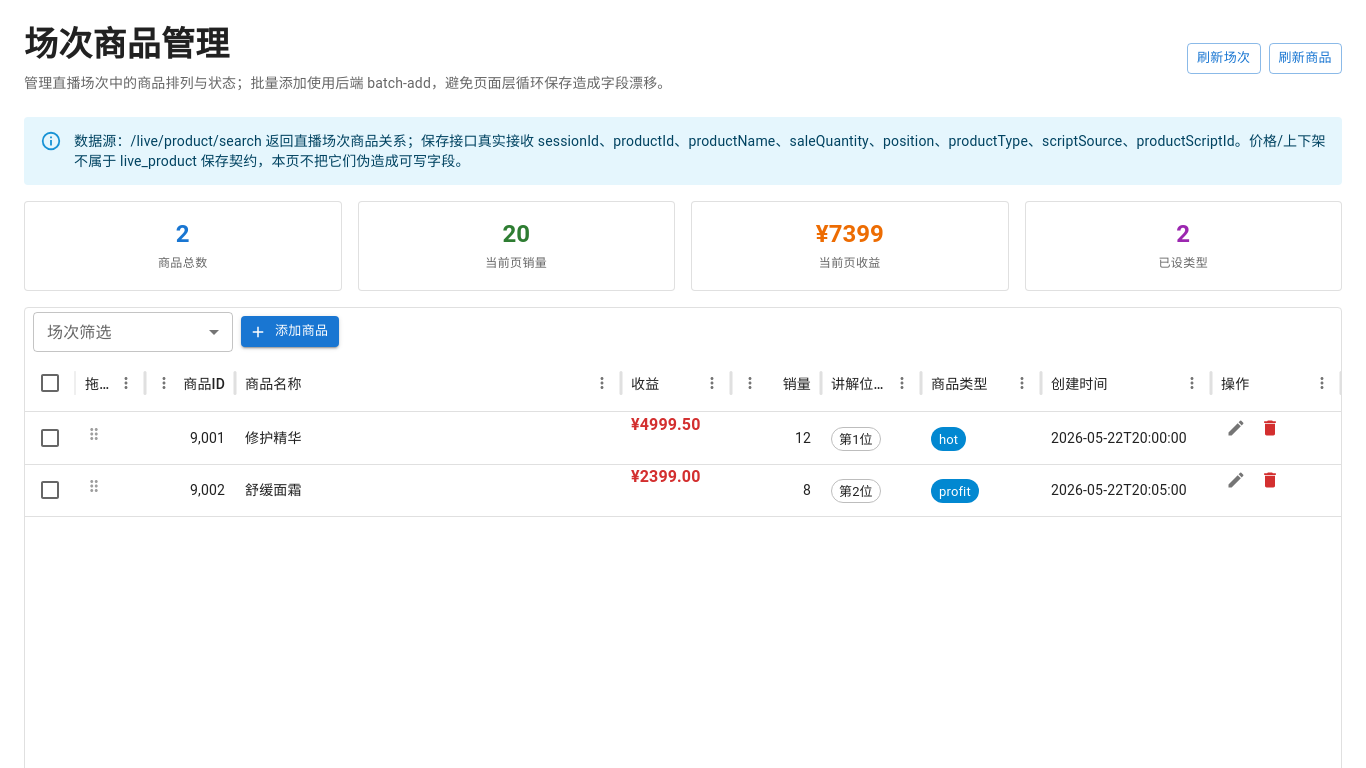
LiveProductPage › shows batch add failure with source endpoint
This screenshot has width=1366, height=768.
Expected: the text "修护精华" is shown, [245,430,302,446]
Click the checkbox named "Select row" at x=50, y=438, box [38,426,62,450]
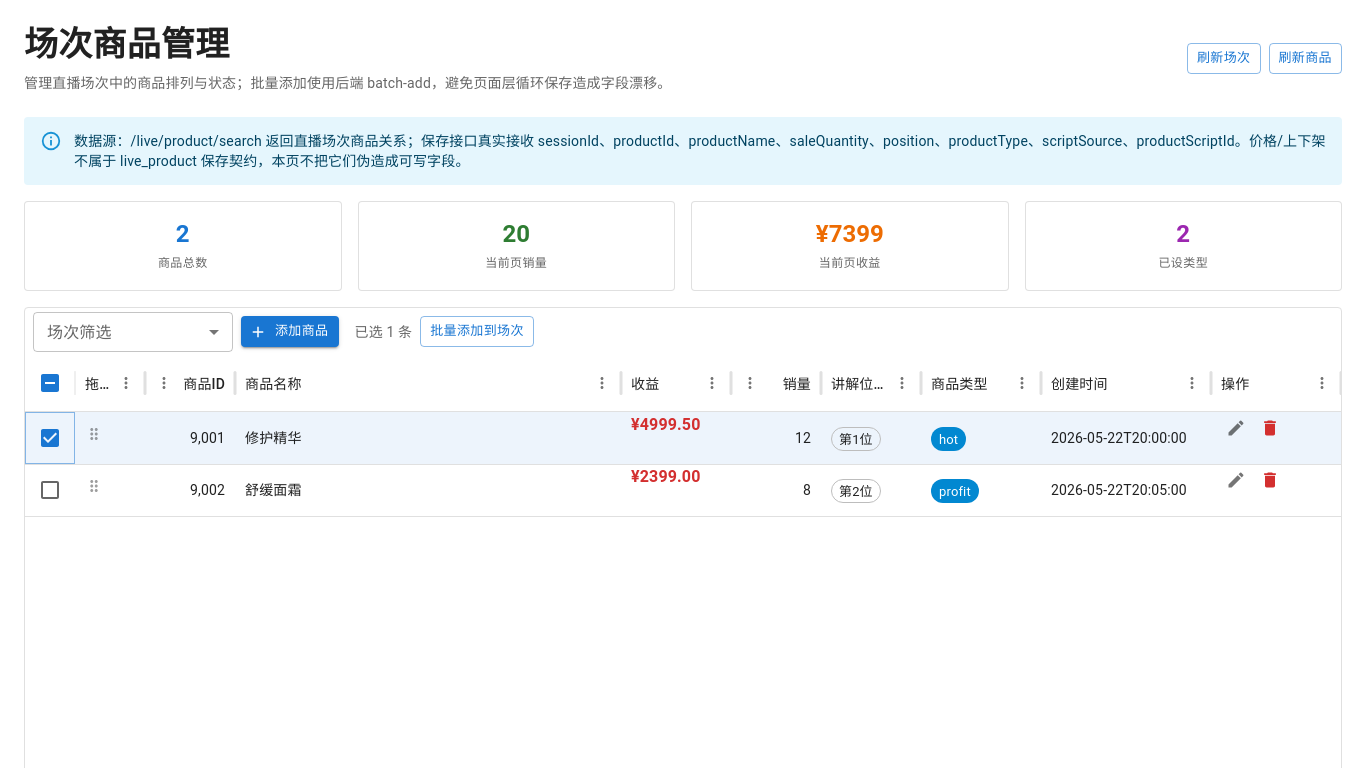
Click the button "批量添加到场次" at x=477, y=332, box [420,316,534,347]
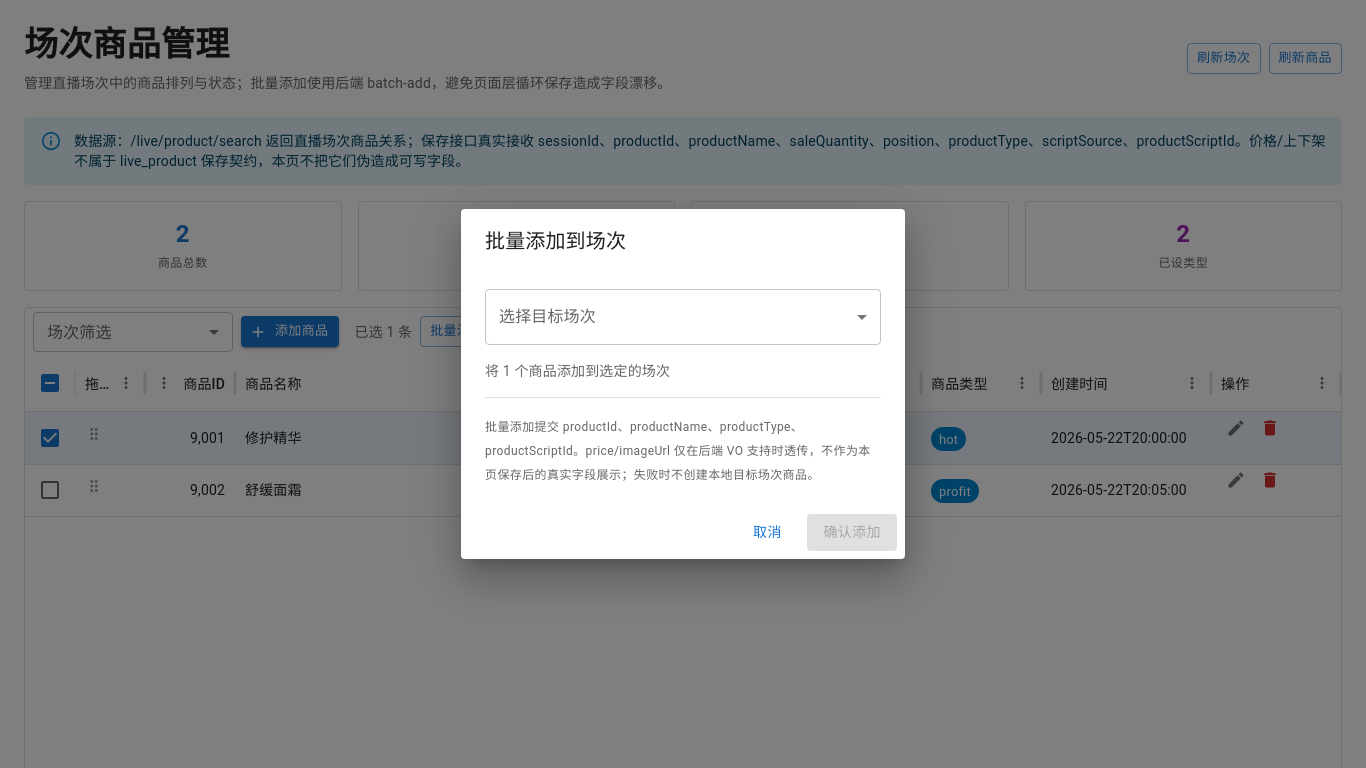
Press the mouse on the dropdown named "选择目标场次" at x=683, y=317, box [485,289,881,345]
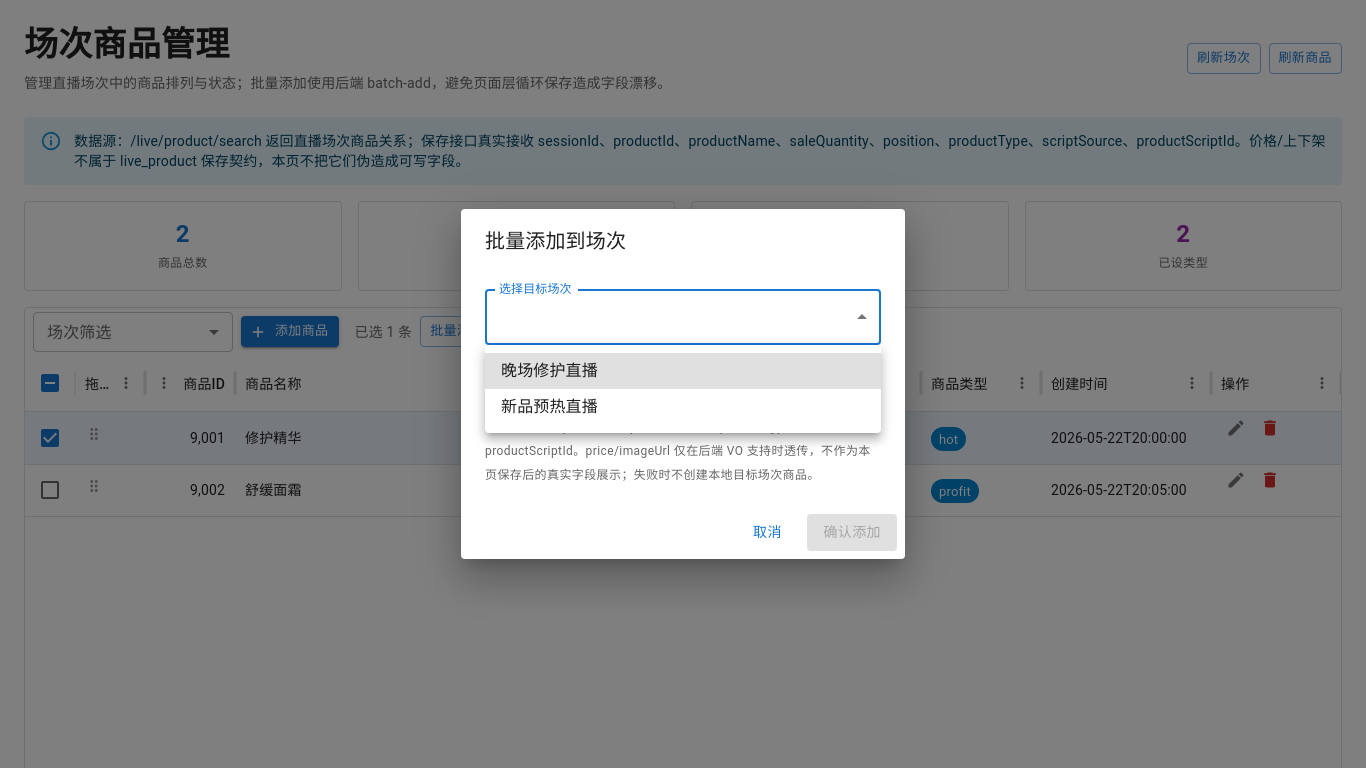
Click the option "新品预热直播" at x=549, y=406, box [501,397,598,416]
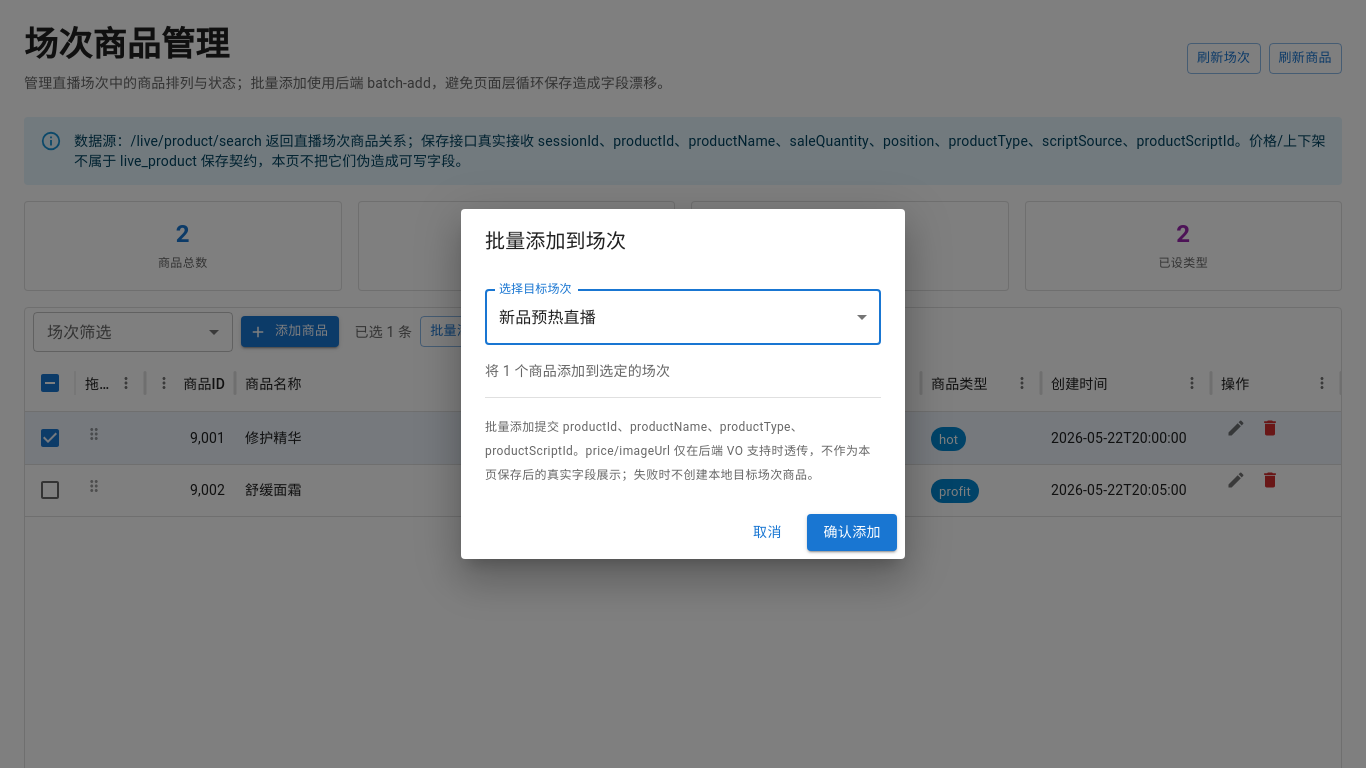
Click the button "确认添加" at x=852, y=533, box [807,514,897,551]
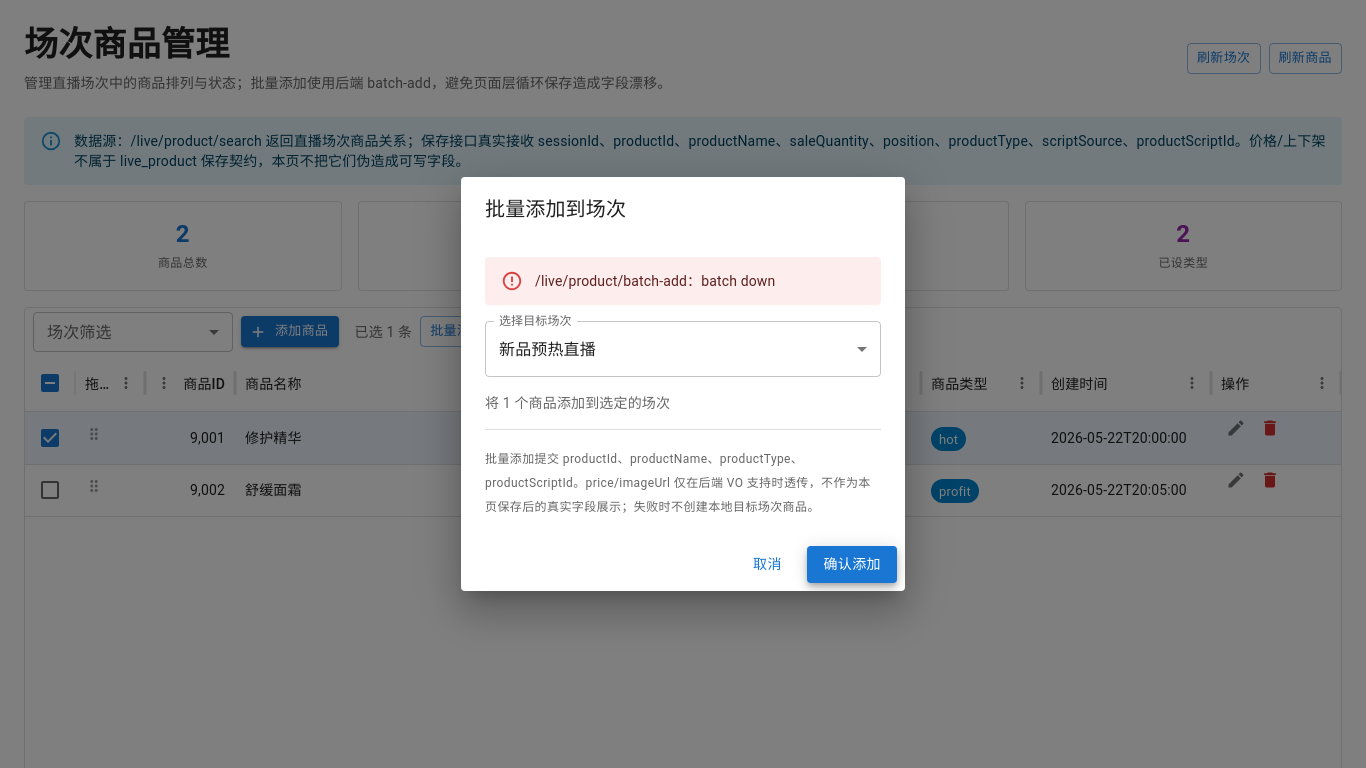
Expected: the text "/live/product/batch-add：batch down" is shown, [535,273,775,289]
